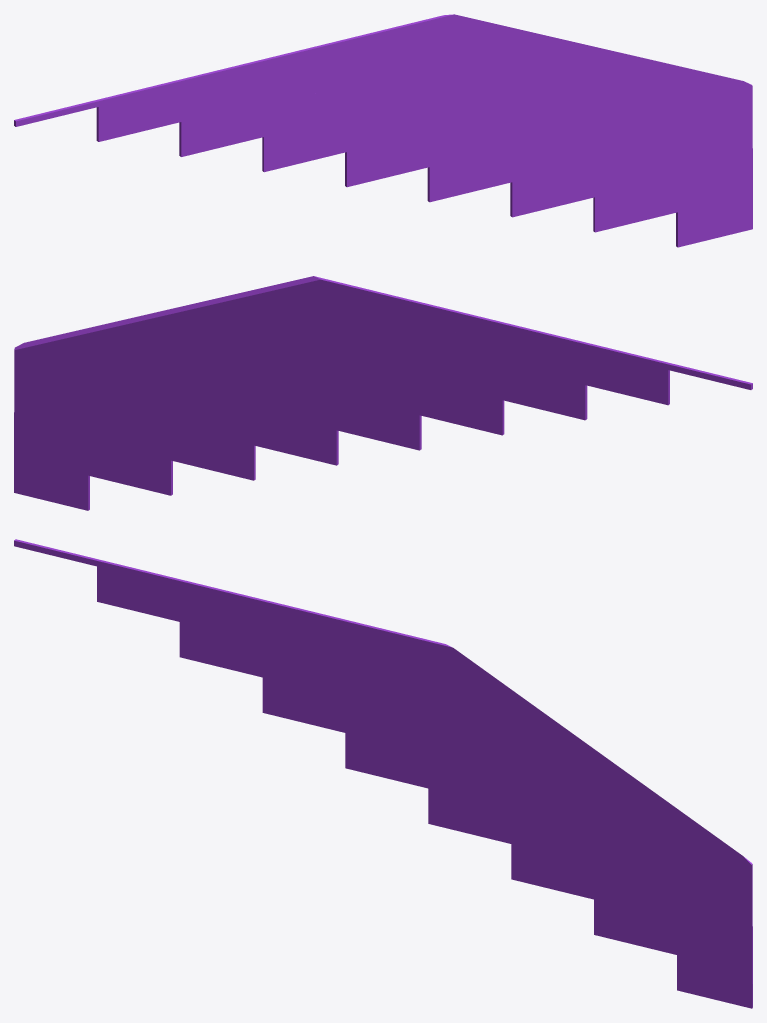
File: Glass_78_11_chunks.fbx
3 views of the same model, one above another, from view 1: azimuth 30°, elevation 25°; view 2: azimuth 150°, elevation 25°; view 3: azimuth 330°, elevation 25° (orthographic).
Visible parts, largest first — view 1: Glass_78_11_1, Glass_78_11_2, Glass_78_11_4, Glass_78_11_7, Glass_78_11_5, Glass_78_11_6, Glass_78_11_8, Glass_78_11_0; view 2: Glass_78_11_1, Glass_78_11_2, Glass_78_11_4, Glass_78_11_7, Glass_78_11_6, Glass_78_11_5, Glass_78_11_0, Glass_78_11_8, Glass_78_11_3; view 3: Glass_78_11_1, Glass_78_11_2, Glass_78_11_4, Glass_78_11_7, Glass_78_11_5, Glass_78_11_6, Glass_78_11_8, Glass_78_11_0.
Part boxes in pixels (x1,y1,x2,y2): Glass_78_11_1: (466,18,752,176); Glass_78_11_2: (14,54,315,172); Glass_78_11_4: (282,61,467,182); Glass_78_11_7: (575,144,752,247); Glass_78_11_5: (294,14,468,93); Glass_78_11_6: (427,122,576,217); Glass_78_11_8: (457,113,608,171); Glass_78_11_0: (345,121,457,187); Glass_78_11_1: (14,279,300,441); Glass_78_11_2: (452,316,752,435); Glass_78_11_4: (300,323,485,444); Glass_78_11_7: (14,409,190,510); Glass_78_11_6: (189,387,338,480); Glass_78_11_5: (299,276,472,354); Glass_78_11_0: (298,374,421,450); Glass_78_11_8: (160,378,303,431); Glass_78_11_3: (446,314,479,358); Glass_78_11_1: (465,658,752,955); Glass_78_11_2: (14,539,313,716); Glass_78_11_4: (280,659,466,763); Glass_78_11_7: (574,853,752,1008); Glass_78_11_5: (293,608,467,700); Glass_78_11_6: (426,757,575,894); Glass_78_11_8: (456,752,607,864); Glass_78_11_0: (345,756,456,787).
Size of the model in its own units: 1203 by 449 by 5.32.
